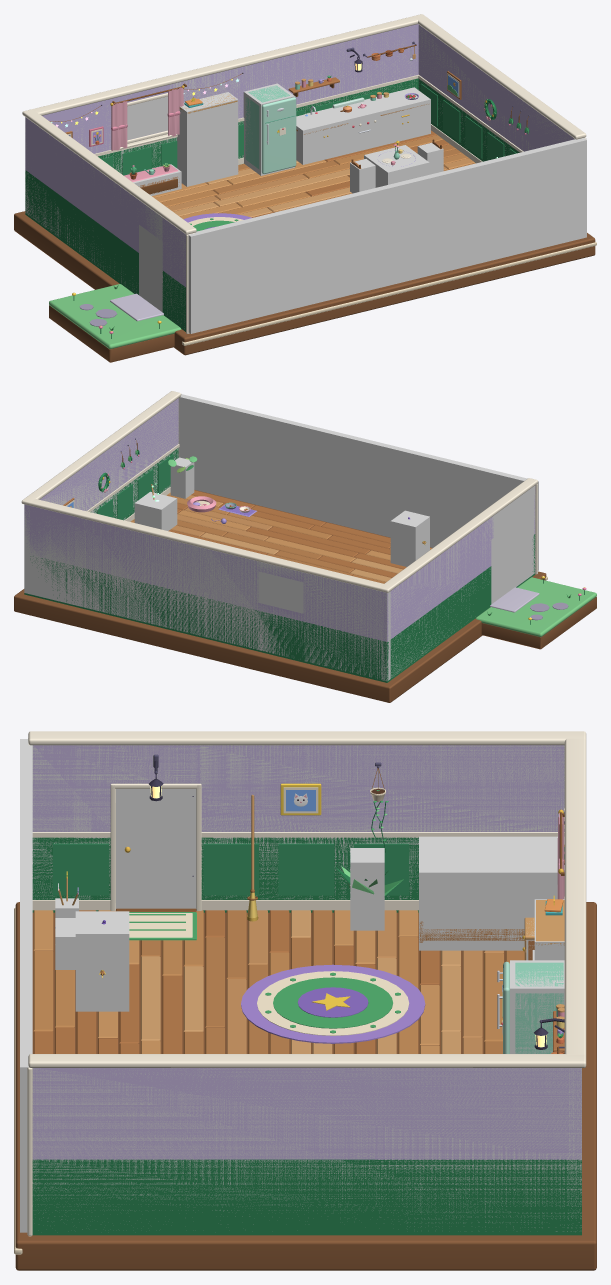
File: House.glb
3 renders of one model, top to bottom at view 1: azimuth 30°, elevation 25°; view 2: azimuth 150°, elevation 25°; view 3: azimuth 270°, elevation 25°, orthographic. The views are drawn at different scales.
Visible parts, largest first — view 1: COL_WallFront, Wall_Back, Floor, Wall_Left, Wall_Right, Exterior, COL_Counter, COL_Bookshelf, COL_WallBack, COL_WallLeft, Fridge_Door, COL_Table (+9 smaller); view 2: Wall_Back, COL_WallBack, COL_WallFront, Floor, Wall_Left, Wall_Right, COL_WallLeft, Exterior, COL_WallRight, COL_Dummy, COL_Cauldron, COL_PlantCorner (+1 smaller); view 3: Wall_Right, Floor, Wall_Left, COL_WallLeft, COL_WallRight, COL_Bed, Rug, Wall_Back, COL_Dummy, COL_WallFront, Fridge_Body, COL_PlantWall (+9 smaller).
Boxes of the visible parts, x1,y1,x2,y2 form: COL_WallFront: (188, 138, 586, 333); Wall_Back: (32, 16, 418, 175); Floor: (14, 130, 596, 355); Wall_Left: (22, 109, 196, 333); Wall_Right: (413, 14, 586, 163); Exterior: (49, 284, 181, 362); COL_Counter: (296, 87, 430, 164); COL_Bookshelf: (177, 92, 238, 186); COL_WallBack: (25, 26, 418, 215); COL_WallLeft: (25, 118, 185, 328); Fridge_Door: (261, 97, 296, 173); COL_Table: (364, 145, 429, 187); Wall_Back: (30, 499, 383, 681); COL_WallBack: (24, 504, 390, 681); COL_WallFront: (178, 394, 538, 570); Floor: (14, 490, 547, 702); Wall_Left: (379, 478, 537, 682); Wall_Right: (21, 391, 181, 595); COL_WallLeft: (381, 486, 535, 680); Exterior: (475, 576, 596, 649); COL_WallRight: (24, 399, 178, 586); COL_Dummy: (390, 510, 429, 566); COL_Cauldron: (134, 491, 177, 530); COL_PlantCorner: (170, 457, 194, 498); Wall_Right: (27, 1054, 586, 1236); Floor: (14, 902, 596, 1270); Wall_Left: (28, 731, 586, 912); COL_WallLeft: (32, 745, 564, 908); COL_WallRight: (32, 1068, 581, 1231); COL_Bed: (419, 836, 564, 950); Rug: (129, 912, 425, 1043); Wall_Back: (534, 738, 586, 1055); COL_Dummy: (75, 911, 129, 1011); COL_WallFront: (20, 739, 32, 1232); Fridge_Body: (515, 962, 563, 1053); COL_PlantWall: (350, 848, 384, 930).
Bounding box in the file's own units: 8.72 × 2.11 × 5.43.
1 material, 1 textured.
